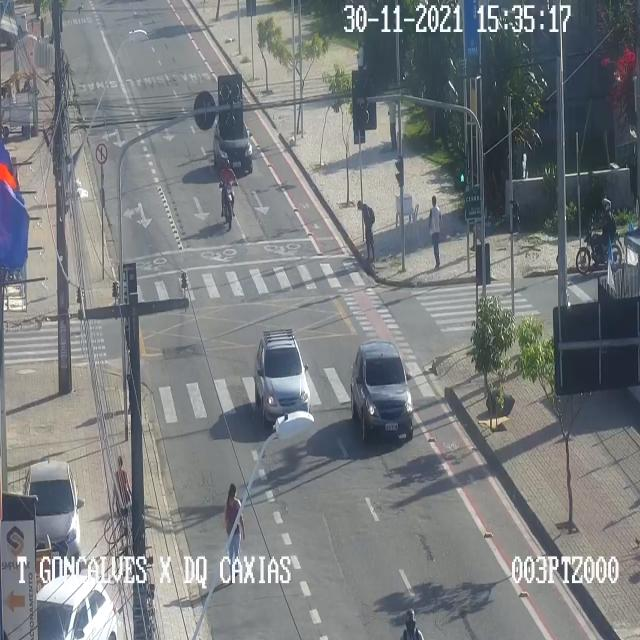Car: (352, 340, 416, 442), (24, 459, 84, 559), (252, 331, 310, 425), (35, 578, 118, 639), (215, 115, 253, 175)
Motorcycle: (575, 198, 621, 278), (219, 156, 237, 225)
